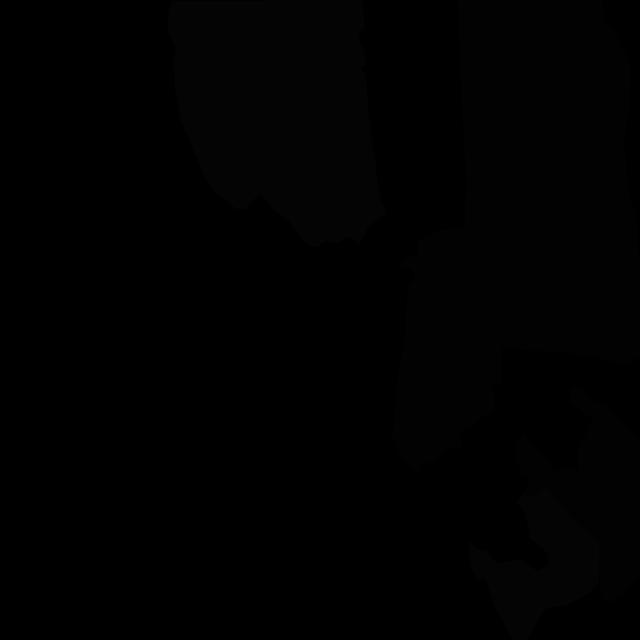cardboard: (457, 0, 640, 364), (392, 218, 508, 474), (513, 385, 640, 603)
soft_plastic: (168, 0, 386, 246), (469, 486, 599, 640)
